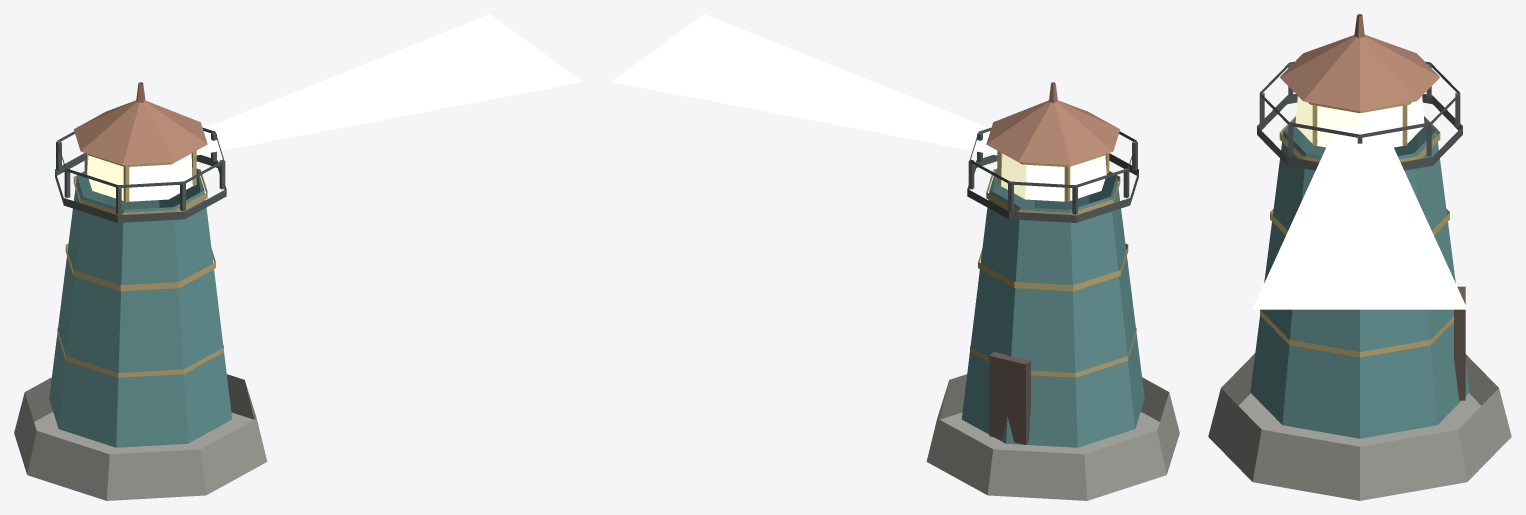
Rendered from ASSET lighthouse-prop GLB.glb.
3 views of the same model, side by side, from view 1: azimuth 30°, elevation 25°; view 2: azimuth 150°, elevation 25°; view 3: azimuth 270°, elevation 25° (orthographic). The views are drawn at different scales.
Parts seen in each view (by area): view 1: lighthouse, lighthouse-beam; view 2: lighthouse, lighthouse-beam; view 3: lighthouse, lighthouse-beam.
Boxes of the visible parts, box(x1,y1,x2,y2) form: lighthouse: box(14, 82, 267, 500); lighthouse-beam: box(196, 14, 582, 155); lighthouse: box(926, 82, 1179, 500); lighthouse-beam: box(611, 14, 997, 155); lighthouse: box(1208, 14, 1511, 500); lighthouse-beam: box(1252, 125, 1467, 309).
Size of the model in its own units: 6.95 by 4.75 by 3.1.
